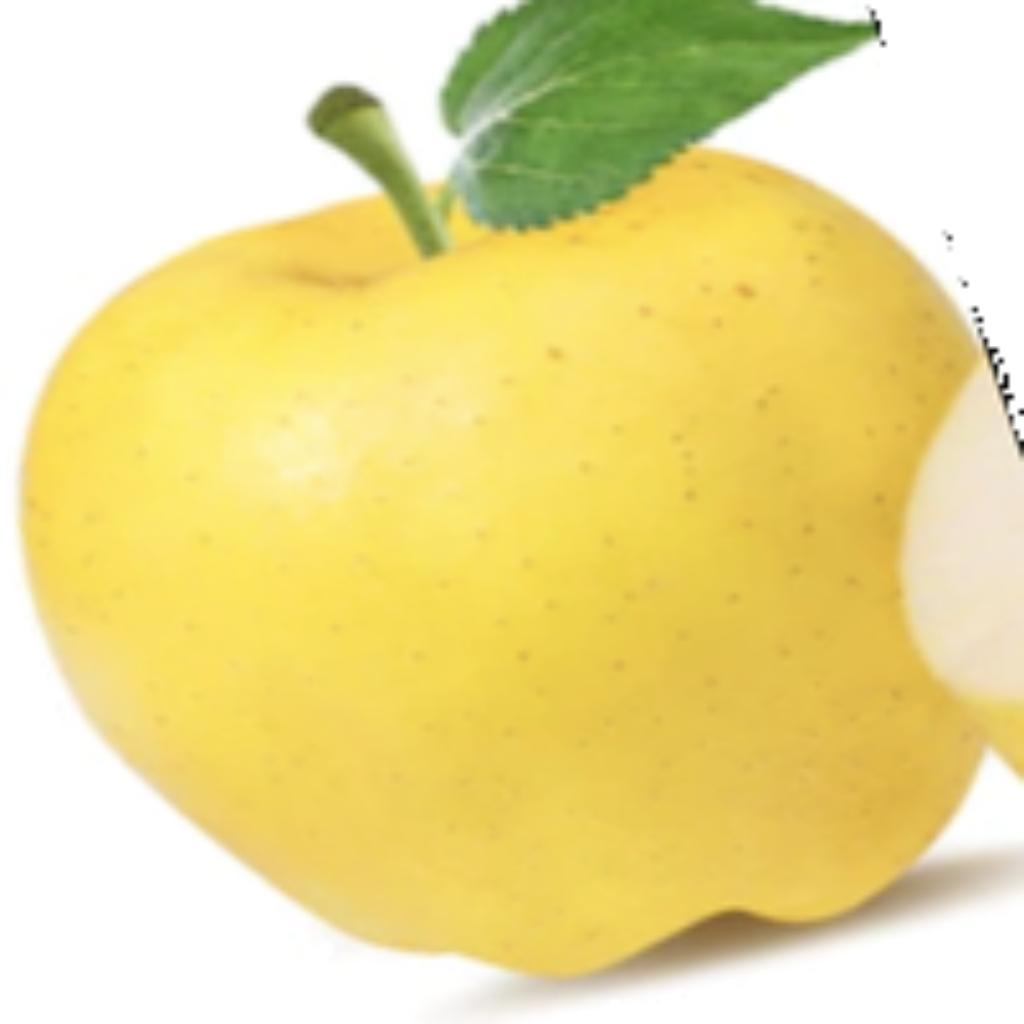apple: (10, 0, 1019, 1014)
